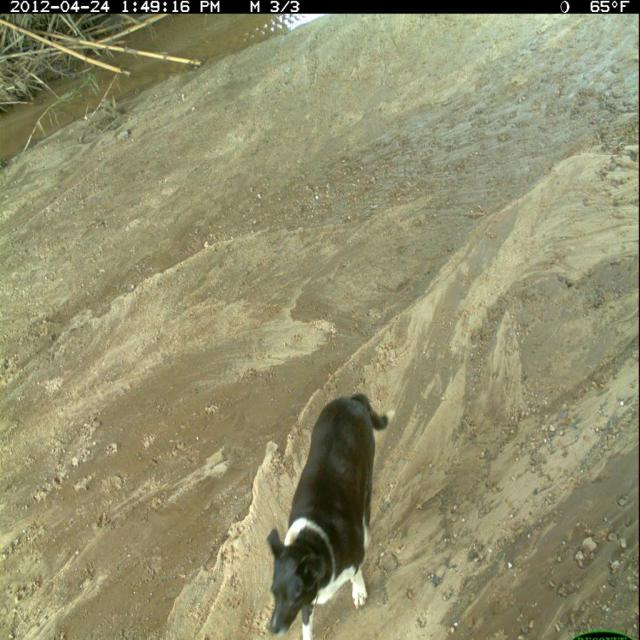dog: (266, 390, 399, 640)
